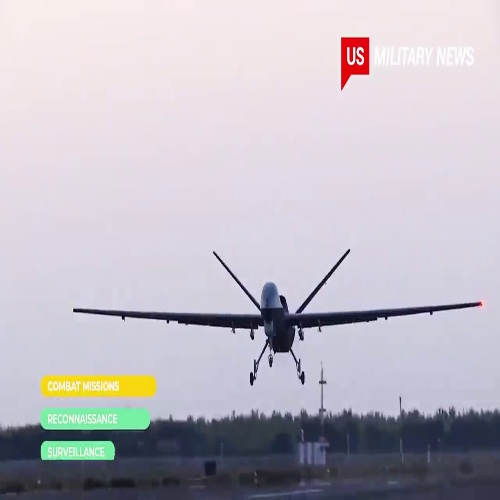uav608: (71, 244, 483, 384)
